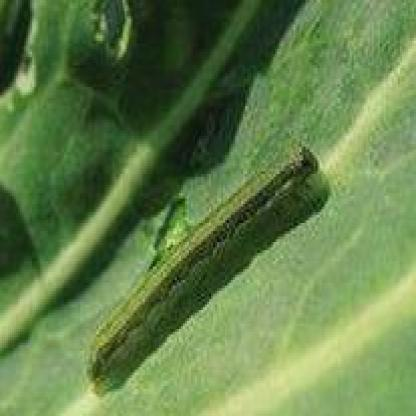armyworm: (62, 114, 345, 416)
